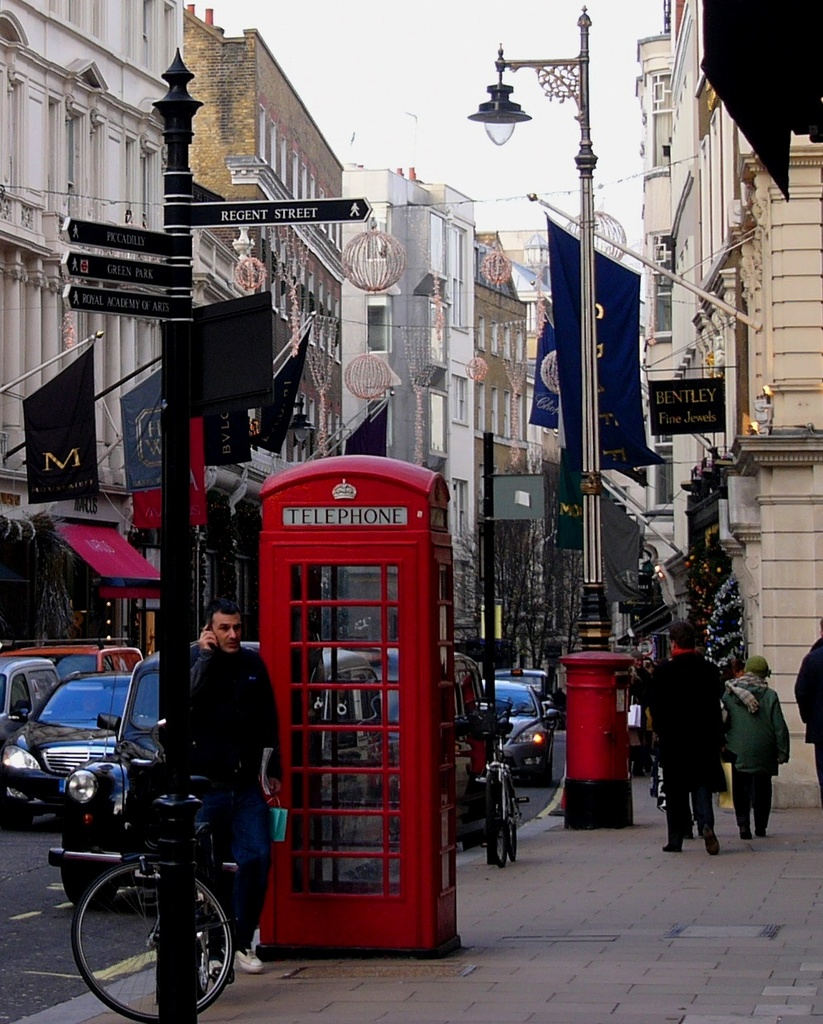Car: (53, 644, 269, 906), (0, 675, 138, 825), (453, 653, 492, 831), (489, 681, 548, 787), (0, 658, 48, 740)
